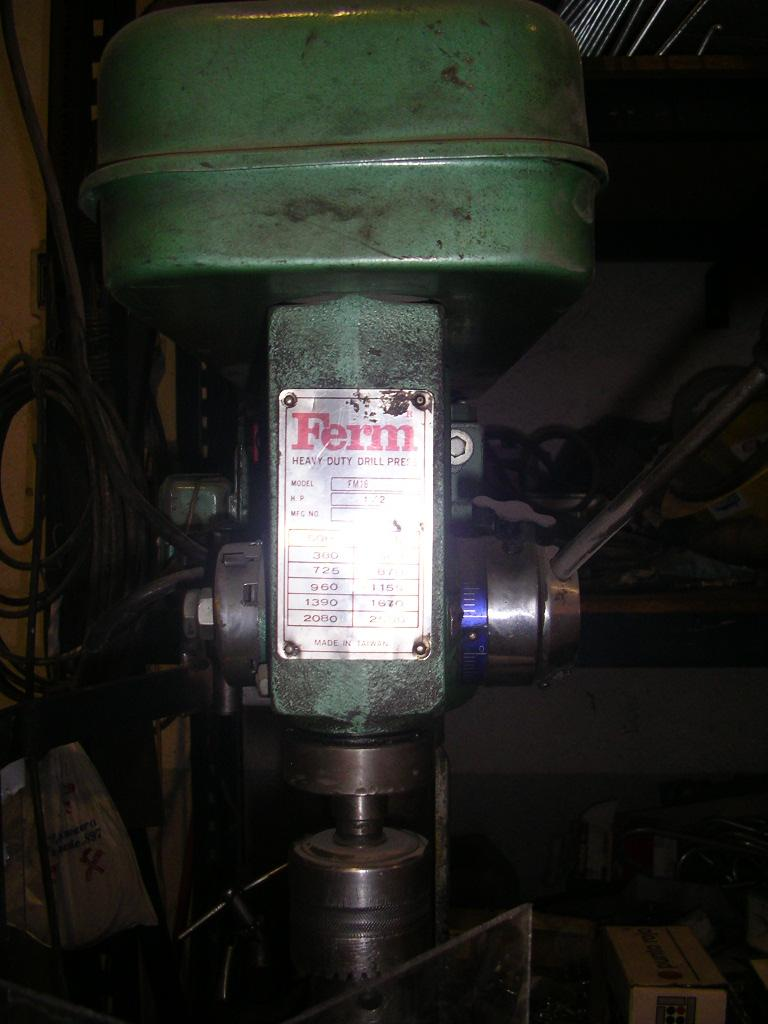falta_resguardo: (273, 716, 441, 1003)
